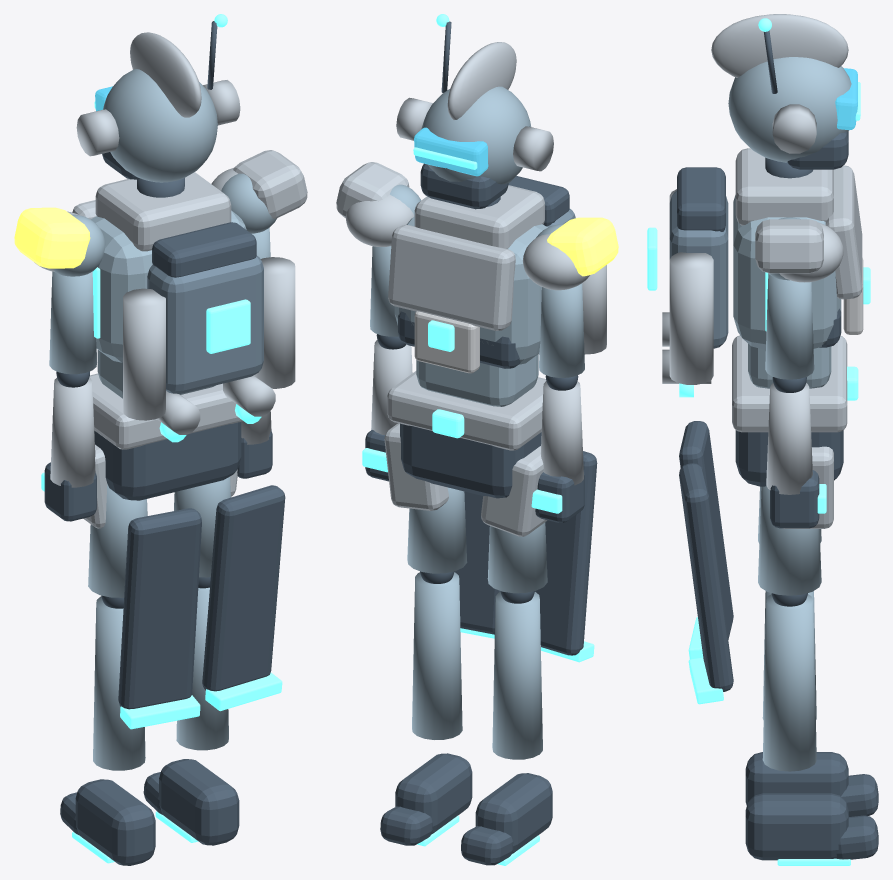
File: skin_ranger.glb
3 renders of one model, left to right at view 1: azimuth 30°, elevation 25°; view 2: azimuth 150°, elevation 25°; view 3: azimuth 270°, elevation 25°, orthographic. The views are drawn at different scales.
Visible parts, largest first — view 1: CoatL, CoatR, Backpack, Helmet, Hips, Collar, TankL, LeftShin, RightBoot, LeftBoot, Torso, LeftArm (+25 smaller); view 2: ChestPlate, LeftShin, RightShin, CoatL, Hips, Belt, Helmet, Collar, RightBoot, RightLeg, LeftBoot, Abdomen (+30 smaller); view 3: RightShin, Helmet, RightBoot, CoatR, TankR, HelmetCrest, Torso, Collar, Belt, RightArm, RightLeg, RightForearm (+21 smaller).
Part boxes in pixels (box(x1,y1,x2,y2)): CoatL: box(118, 508, 201, 709); CoatR: box(202, 485, 285, 691); Backpack: box(147, 255, 263, 393); Helmet: box(103, 69, 217, 182); Hips: box(94, 422, 241, 500); Collar: box(95, 172, 231, 251); TankL: box(123, 288, 165, 420); LeftShin: box(93, 596, 145, 770); RightBoot: box(159, 759, 239, 845); LeftBoot: box(75, 779, 155, 865); Torso: box(90, 210, 246, 362); LeftArm: box(49, 271, 96, 374); ChestPlate: box(388, 225, 515, 330); LeftShin: box(492, 592, 542, 759); RightShin: box(412, 572, 462, 739); CoatL: box(535, 451, 597, 655); Hips: box(400, 423, 541, 498); Belt: box(387, 371, 546, 450); Helmet: box(421, 86, 531, 184); Collar: box(414, 185, 544, 248); RightBoot: box(395, 753, 472, 833); RightLeg: box(407, 487, 467, 573); LeftBoot: box(475, 773, 552, 853); Abdomen: box(416, 354, 538, 406); RightShin: box(762, 594, 816, 771); Helmet: box(728, 57, 851, 162); RightBoot: box(745, 793, 848, 860); CoatR: box(679, 463, 733, 691); TankR: box(669, 252, 713, 384); HelmetCrest: box(711, 14, 848, 77); Torso: box(733, 195, 841, 349); Collar: box(735, 148, 833, 225); Belt: box(732, 335, 847, 432); RightArm: box(765, 274, 814, 379); RightLeg: box(758, 486, 821, 595); RightForearm: box(766, 383, 812, 494).
Bounding box in the file's own units: 0.6458 × 1.89 × 0.4708.
